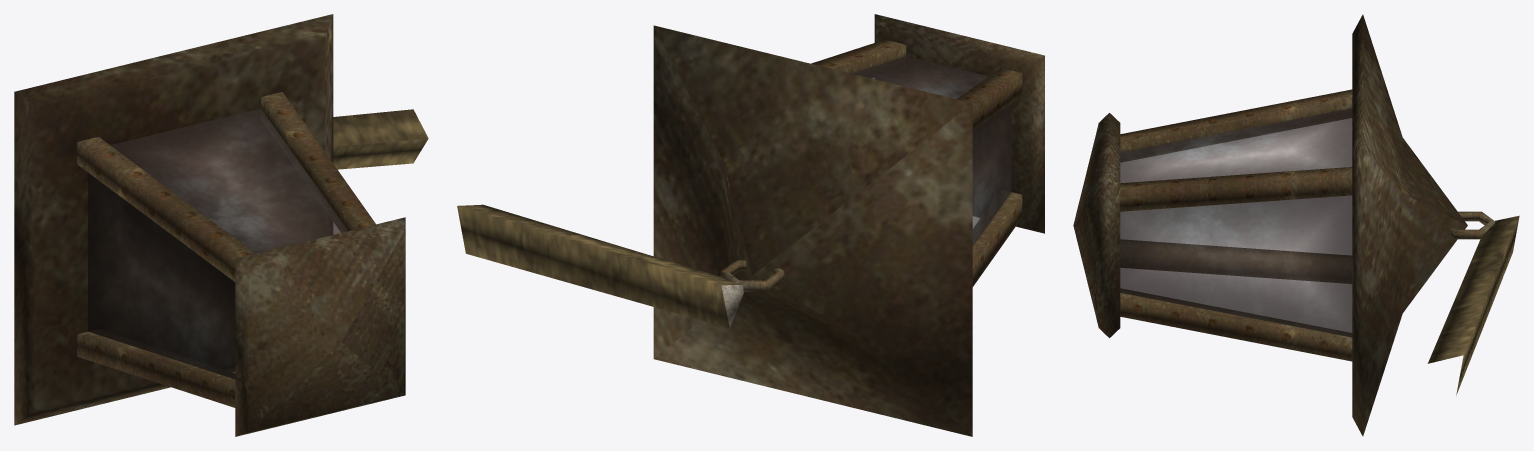
3 renders of one model, left to right at view 1: azimuth 30°, elevation 25°; view 2: azimuth 150°, elevation 25°; view 3: azimuth 270°, elevation 25°, orthographic. The views are drawn at different scales.
Parts seen in each view (by area): view 1: l_lampstruct0.jpg__, l_lampsglass0.png__, electroPost.jpg__; view 2: l_lampstruct0.jpg__, electroPost.jpg__, l_lampsglass0.png__; view 3: l_lampstruct0.jpg__, l_lampsglass0.png__, electroPost.jpg__.
Part boxes in pixels (bbox=[...]): l_lampstruct0.jpg__: bbox=[14, 14, 405, 436]; l_lampsglass0.png__: bbox=[88, 108, 347, 379]; electroPost.jpg__: bbox=[333, 109, 428, 169]; l_lampstruct0.jpg__: bbox=[653, 14, 1044, 436]; electroPost.jpg__: bbox=[457, 204, 743, 328]; l_lampsglass0.png__: bbox=[852, 56, 1011, 246]; l_lampstruct0.jpg__: bbox=[1073, 14, 1495, 436]; l_lampsglass0.png__: bbox=[1120, 108, 1352, 337]; electroPost.jpg__: bbox=[1427, 215, 1519, 394].
Bounding box in the file's own units: 2.13 × 1.48 × 2.08.
Materials: 3 (3 with a texture image).
